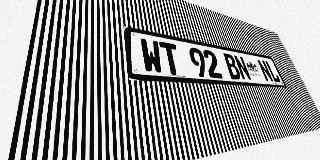2: (202, 49, 223, 78)
9: (188, 47, 210, 77)
B: (222, 53, 242, 80)
L: (264, 61, 281, 83)
N: (233, 55, 252, 81), (256, 59, 274, 82)
T: (159, 41, 183, 75)
W: (139, 38, 164, 74)
